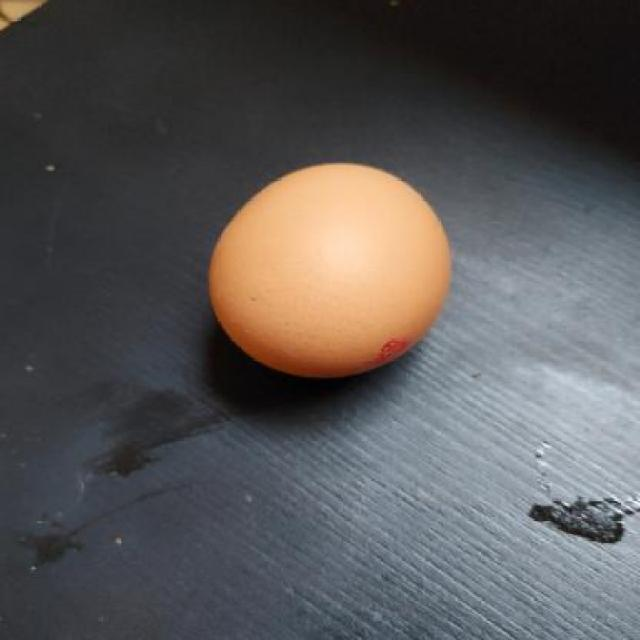biodegradable: (211, 156, 457, 392)
